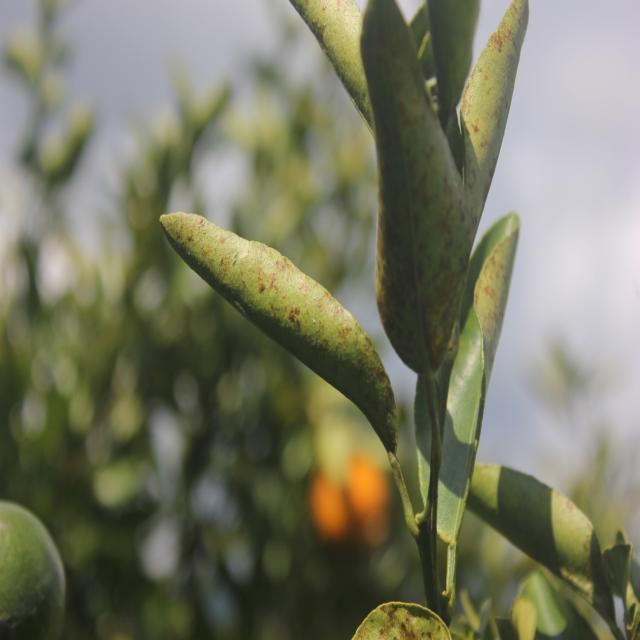melanose: (165, 201, 395, 468), (364, 13, 469, 367), (450, 1, 534, 230), (477, 209, 528, 428), (287, 0, 371, 113), (346, 585, 465, 640)
